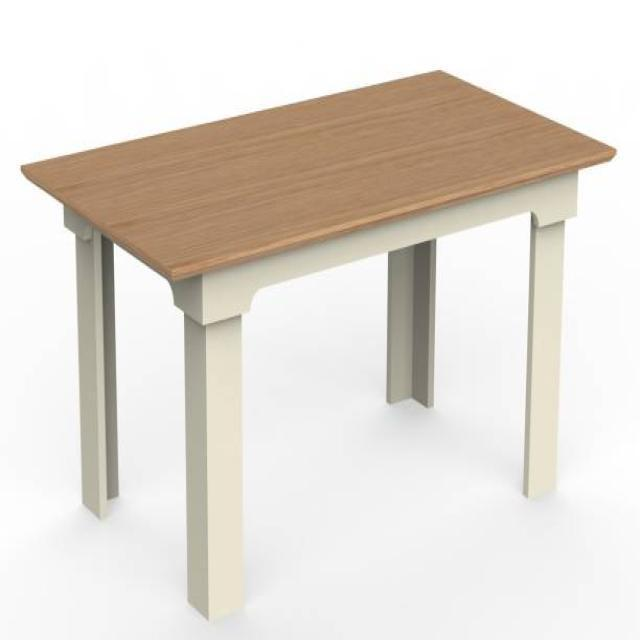table: (19, 66, 617, 622)
